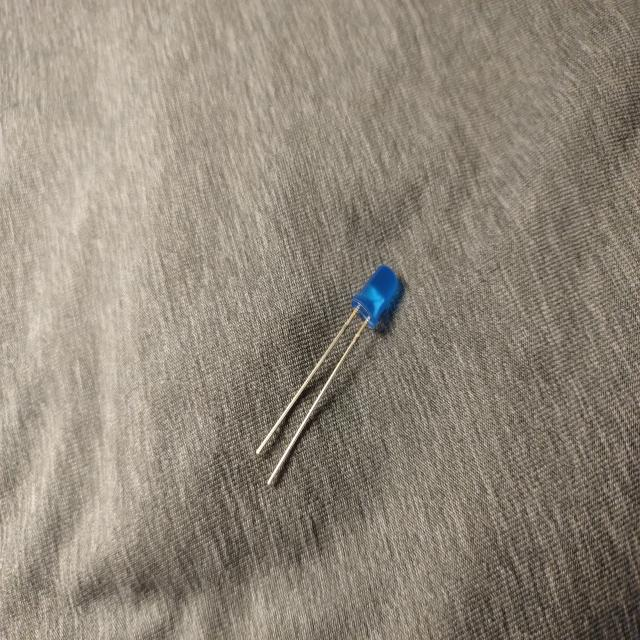blue_led: (245, 256, 402, 502)
